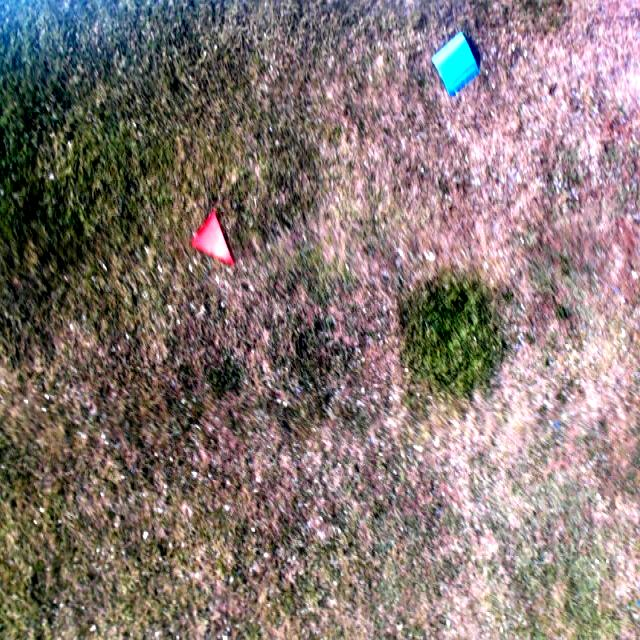blue_square: (432, 28, 480, 101)
red_triangle: (192, 210, 236, 269)
